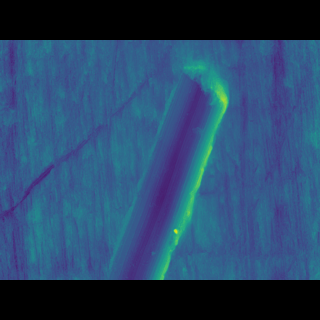Loch: (104, 82, 230, 250)
